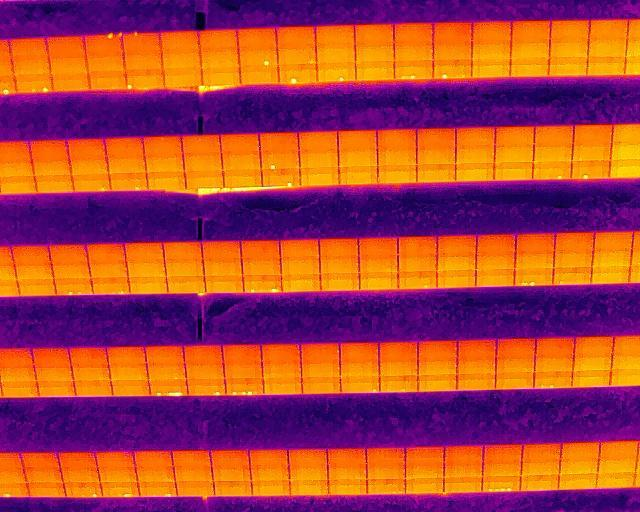Cell: (123, 32, 161, 57), (238, 47, 278, 68), (261, 150, 299, 170), (571, 160, 610, 178), (534, 161, 571, 179), (92, 277, 129, 295), (341, 375, 379, 392), (262, 169, 300, 186), (126, 73, 165, 89), (187, 380, 225, 396), (138, 482, 176, 497), (279, 68, 317, 83), (317, 68, 355, 83), (101, 482, 138, 497), (65, 482, 101, 497), (433, 64, 471, 78)
Cell-Multi: (84, 34, 122, 57), (515, 267, 553, 286), (243, 275, 281, 293), (16, 74, 53, 92), (394, 64, 433, 81), (534, 371, 572, 388), (55, 278, 92, 295), (225, 379, 262, 395), (483, 476, 520, 491)
No-Anomaly: (394, 20, 433, 45), (354, 43, 394, 67), (354, 23, 394, 47), (160, 32, 199, 56), (316, 25, 355, 48), (199, 31, 239, 53), (30, 347, 71, 368), (472, 38, 511, 60), (588, 36, 627, 58), (433, 22, 472, 44), (67, 347, 107, 368), (46, 36, 86, 57), (589, 18, 629, 39), (587, 55, 626, 76), (550, 37, 589, 58), (394, 45, 434, 65), (433, 44, 473, 64), (105, 137, 144, 157), (534, 124, 573, 144), (301, 342, 340, 362), (510, 56, 549, 76), (278, 48, 317, 68), (200, 53, 239, 73), (316, 47, 355, 67), (515, 233, 556, 252), (161, 54, 202, 73), (68, 137, 105, 158), (298, 148, 338, 167), (260, 132, 300, 151), (220, 134, 260, 153), (554, 249, 594, 268), (549, 57, 587, 77), (511, 37, 549, 57), (10, 38, 48, 58), (239, 29, 279, 48), (472, 20, 510, 40), (417, 162, 456, 181), (186, 169, 225, 188), (533, 142, 572, 161), (438, 235, 477, 254), (49, 243, 88, 262), (478, 234, 517, 253), (203, 257, 242, 276), (379, 356, 418, 375), (495, 127, 534, 146), (497, 337, 536, 356), (418, 339, 457, 358), (512, 20, 551, 39), (279, 28, 316, 48), (10, 246, 51, 264), (126, 259, 167, 277), (339, 165, 377, 184), (224, 169, 262, 188), (339, 147, 377, 166), (184, 151, 222, 170), (30, 140, 68, 159), (164, 241, 202, 260), (340, 357, 378, 376), (222, 344, 260, 363), (575, 337, 613, 356), (593, 248, 631, 267), (52, 73, 90, 92), (472, 59, 510, 78), (551, 20, 589, 39), (554, 231, 594, 249), (320, 239, 360, 257), (574, 124, 610, 144), (183, 345, 223, 363), (106, 347, 146, 365), (281, 256, 321, 274), (398, 254, 438, 272), (111, 171, 148, 190), (147, 170, 184, 189), (457, 127, 494, 146), (74, 378, 113, 396), (378, 164, 417, 182), (222, 152, 261, 170), (299, 132, 338, 150), (495, 371, 534, 389), (359, 239, 398, 257), (417, 128, 456, 146), (457, 337, 496, 355), (145, 346, 184, 364), (242, 258, 281, 276), (515, 250, 554, 268), (50, 56, 89, 74), (14, 263, 55, 280), (560, 443, 601, 460), (111, 378, 149, 396), (301, 167, 339, 185), (72, 173, 110, 191), (457, 162, 495, 180), (378, 146, 416, 164), (144, 137, 182, 155), (182, 135, 220, 153), (186, 363, 224, 381), (88, 243, 126, 261), (202, 240, 240, 258), (457, 354, 495, 372), (378, 128, 416, 146), (536, 338, 574, 356), (360, 272, 398, 290), (321, 273, 359, 291), (282, 273, 320, 291), (124, 243, 164, 260), (241, 240, 281, 257), (261, 345, 301, 362), (86, 56, 126, 73), (249, 448, 289, 465), (522, 443, 562, 460), (599, 443, 639, 460), (592, 266, 629, 284), (379, 375, 418, 392), (418, 373, 457, 390), (106, 155, 145, 172), (70, 157, 109, 174), (495, 146, 534, 163), (23, 466, 62, 483), (399, 237, 438, 254), (406, 477, 445, 494), (418, 357, 457, 374), (475, 269, 514, 286), (438, 254, 477, 271), (124, 57, 163, 74), (145, 154, 183, 171), (456, 145, 494, 162), (457, 372, 495, 389), (147, 363, 185, 380), (281, 240, 319, 257), (437, 271, 475, 288), (398, 272, 436, 289), (205, 276, 243, 293), (129, 277, 167, 294), (554, 268, 592, 285), (165, 260, 203, 277), (13, 57, 51, 74), (96, 451, 134, 468), (135, 449, 173, 466), (89, 261, 126, 278), (89, 73, 126, 90), (263, 376, 302, 392), (495, 163, 534, 179), (417, 147, 456, 163), (338, 131, 377, 147), (109, 364, 148, 380), (71, 364, 110, 380), (224, 362, 263, 378), (594, 232, 633, 248), (496, 355, 535, 371), (262, 361, 301, 377), (340, 341, 379, 357), (166, 276, 205, 292), (320, 257, 359, 273), (359, 256, 398, 272), (444, 461, 483, 477), (367, 463, 406, 479), (328, 464, 367, 480), (240, 68, 279, 84), (483, 460, 522, 476), (289, 449, 328, 465), (367, 448, 406, 464), (484, 445, 523, 461), (36, 174, 72, 191), (597, 472, 635, 488), (559, 474, 597, 490), (444, 476, 482, 492), (535, 355, 573, 371), (378, 341, 416, 357), (17, 280, 55, 296), (290, 479, 328, 495), (252, 480, 290, 496), (137, 466, 175, 482), (290, 464, 328, 480), (357, 65, 395, 81), (521, 460, 559, 476), (58, 451, 96, 467), (211, 450, 249, 466), (328, 448, 366, 464), (444, 446, 484, 461), (33, 158, 70, 174), (62, 467, 99, 483), (573, 145, 610, 161), (37, 380, 74, 396), (173, 451, 210, 467), (476, 254, 515, 269), (212, 466, 251, 481), (53, 262, 89, 278), (302, 378, 340, 393), (521, 475, 559, 490), (98, 467, 136, 482), (573, 371, 611, 386), (301, 362, 339, 377), (573, 356, 611, 371), (214, 481, 252, 496), (329, 479, 367, 494), (368, 479, 406, 494), (252, 465, 290, 480), (406, 462, 444, 477), (202, 70, 240, 85), (177, 481, 214, 496), (27, 482, 64, 497), (407, 448, 444, 463), (34, 367, 73, 381), (560, 460, 599, 474), (164, 71, 203, 85), (22, 451, 58, 466), (175, 467, 213, 481), (598, 459, 636, 473)
Unclassified: (149, 379, 187, 396)
